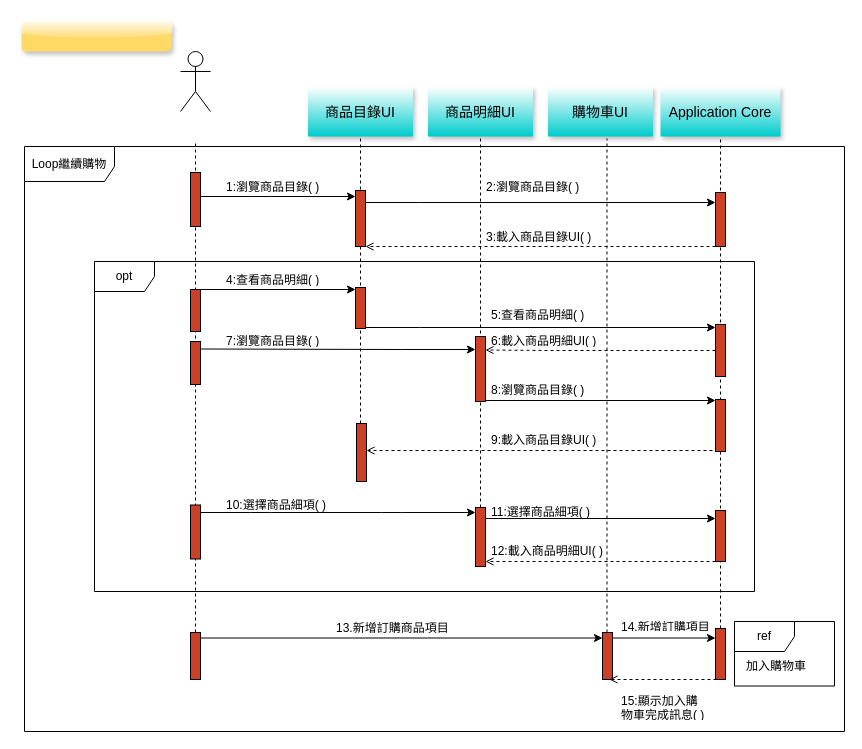
This 862x749 diagram has some shape labels left out. Each missing label, with the centre of its shape:
"商品訂購之UI循序圖" goes at point 97,37.
"會員" goes at point 195,81.
